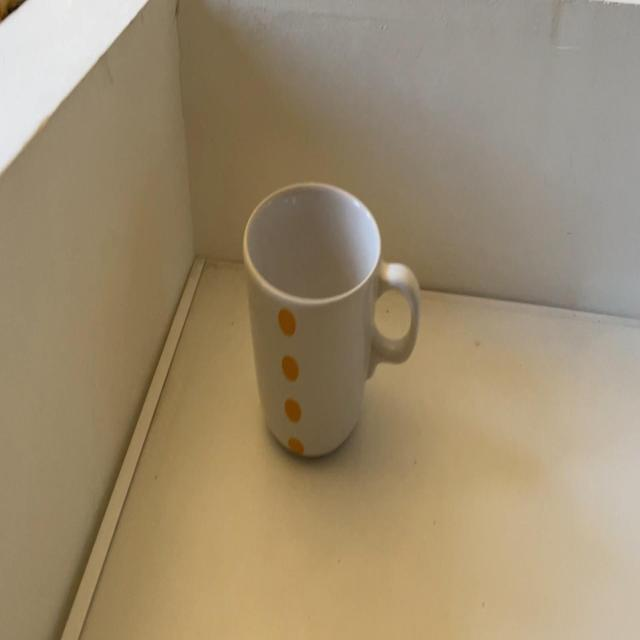cup: (240, 180, 422, 462)
